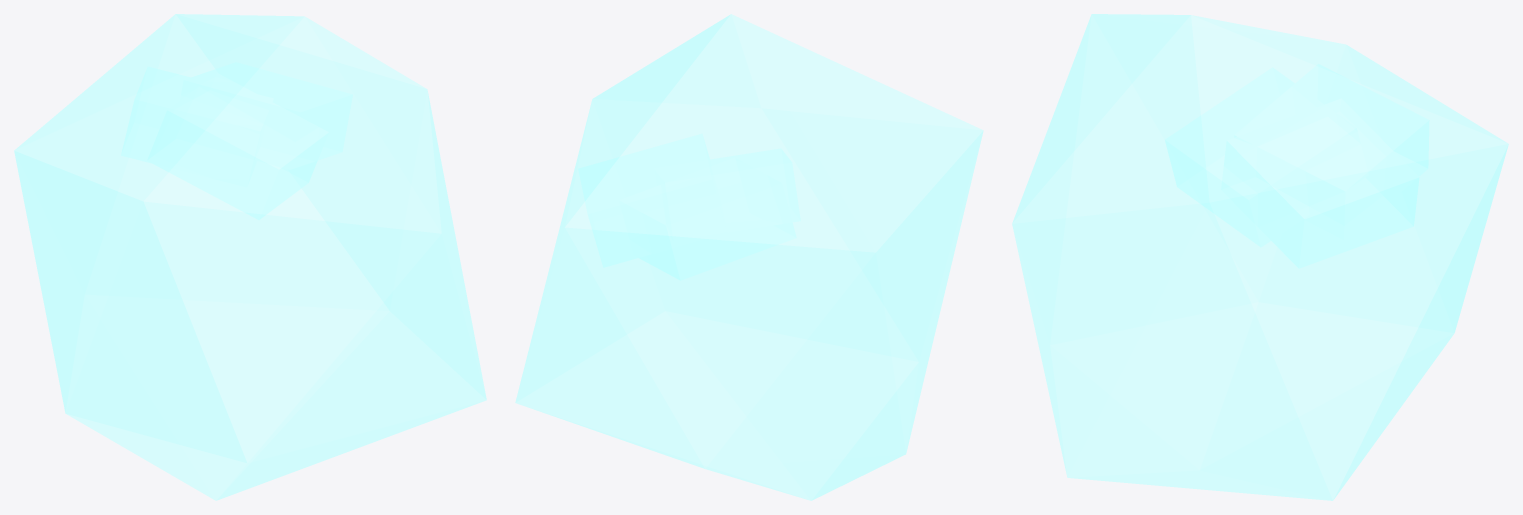
File: GH_Ore_Chunk.fbx
3 renders of one model, left to right at view 1: azimuth 30°, elevation 25°; view 2: azimuth 150°, elevation 25°; view 3: azimuth 270°, elevation 25°, orthographic. The views are drawn at different scales.
Parts seen in each view (by area): view 1: SM_Ore_Chunk; view 2: SM_Ore_Chunk; view 3: SM_Ore_Chunk.
Boxes of the visible parts, x1,y1,x2,y2 form: SM_Ore_Chunk: [14, 14, 486, 500]; SM_Ore_Chunk: [515, 14, 983, 500]; SM_Ore_Chunk: [1012, 14, 1508, 500].
Bounding box in the file's own units: 0.4259 × 0.5142 × 0.4634.
